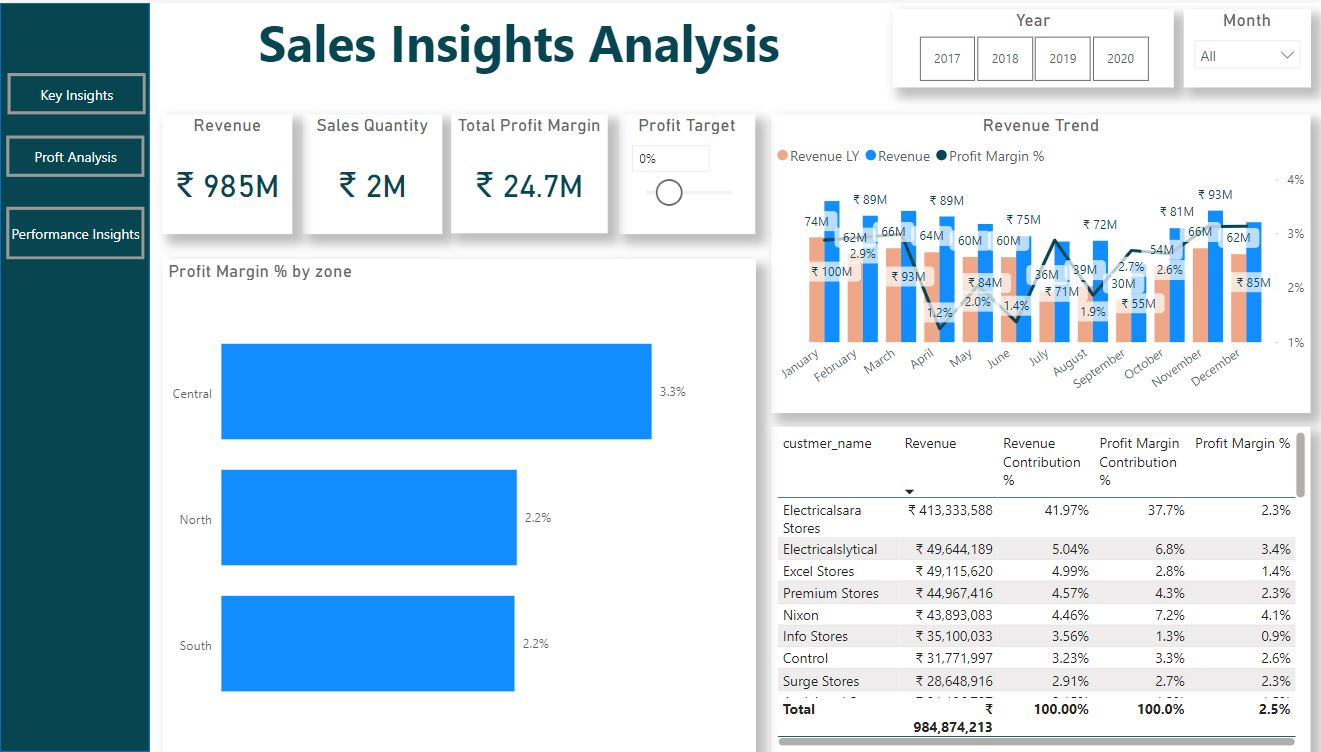

This screenshot's page, from the dashboard's own definition file:
{"tool":"powerbi","page":{"name":"Performance Insights","canvas":[1280,720],"ordinal":2},"visuals":[{"type":"actionButton","box":[0,0,100,40],"z":0},{"type":"lineClusteredColumnComboChart","title":"Revenue Trend","fields":{"Y":["sales transactions.Revenue LY","sales transactions.Revenue"],"Y2":["sales transactions.Profit Margin %"],"Category":["sales date.cy_date.Variation.Date Hierarchy.Year","sales date.cy_date.Variation.Date Hierarchy.Quarter","sales date.cy_date.Variation.Date Hierarchy.Month"]},"box":[751.4,107.3,518.6,287],"z":1000},{"type":"slicer","title":"Profit Target","fields":{"Values":["Profit Target.Profit Target"]},"box":[604.4,106.7,131.1,115.6],"z":2000},{"type":"tableEx","title":"Top 5 Customers","fields":{"Values":["sales customers.custmer_name","sales transactions.Revenue","sales transactions.Revenue Contribution %","sales transactions.Profit Margin Contribution %","sales transactions.Profit Margin %"]},"box":[751.3,407.2,518.3,312.6],"z":3000},{"type":"card","title":"Sales Quantity","fields":{"Values":["sales transactions.Sales Qty"]},"box":[300.3,106.9,134.4,115.2],"z":4000},{"type":"card","title":"Revenue","fields":{"Values":["sales transactions.Revenue"]},"box":[165.9,106.9,124.8,115.2],"z":5000},{"type":"card","title":"Total Profit Margin","fields":{"Values":["sales transactions.Total Profit Margin"]},"box":[443.3,106.7,150,114.4],"z":6000},{"type":"slicer","title":"Year","fields":{"Values":["sales date.year"]},"box":[867.9,5.5,270.1,75.4],"z":7000},{"type":"slicer","title":"Month","fields":{"Values":["sales date.Month"]},"box":[1147.6,5.5,122,75.4],"z":8000},{"type":"textbox","box":[165.9,0,685.5,80.9],"z":9000},{"type":"shape","box":[10,0.2,144,719.8],"z":10000},{"type":"actionButton","box":[16.5,67.2,133,39.8],"z":11000},{"type":"actionButton","box":[15.1,127.5,133,39.8],"z":12000},{"type":"actionButton","box":[15.1,196.1,133,50.7],"z":13000},{"type":"barChart","fields":{"Category":["sales markets.zone","sales markets.markets_name","sales customers.custmer_name"],"Y":["sales transactions.Profit Margin %"]},"box":[165.6,246.7,570,473.3],"z":14000}]}

Visuals, with their boxes in screenshot pixels (x1, y1, x2, y2), scaled from the page's 1280x720 canvas onto the 1321x752 screenshot:
actionButton: [left=0, top=0, right=103, bottom=42]
"Revenue Trend" lineClusteredColumnComboChart: [left=775, top=112, right=1311, bottom=412]
"Profit Target" slicer: [left=624, top=111, right=759, bottom=232]
"Top 5 Customers" tableEx: [left=775, top=425, right=1310, bottom=751]
"Sales Quantity" card: [left=310, top=112, right=449, bottom=232]
"Revenue" card: [left=171, top=112, right=300, bottom=232]
"Total Profit Margin" card: [left=457, top=111, right=612, bottom=231]
"Year" slicer: [left=896, top=6, right=1174, bottom=84]
"Month" slicer: [left=1184, top=6, right=1310, bottom=84]
textbox: [left=171, top=0, right=879, bottom=84]
shape: [left=10, top=0, right=159, bottom=751]
actionButton: [left=17, top=70, right=154, bottom=112]
actionButton: [left=16, top=133, right=153, bottom=175]
actionButton: [left=16, top=205, right=153, bottom=258]
barChart - sales markets.zone x sales markets.markets_name: [left=171, top=258, right=759, bottom=751]
